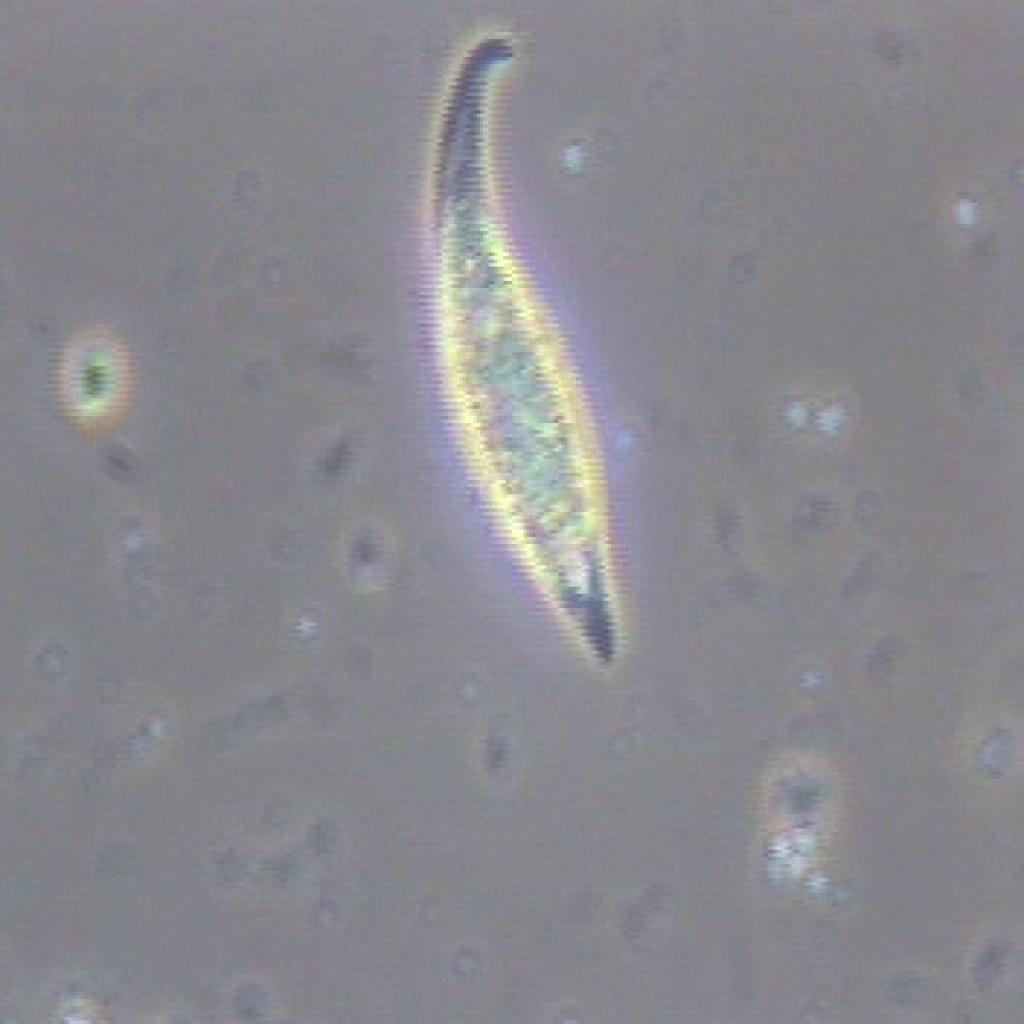Pristina: (391, 0, 656, 754)
